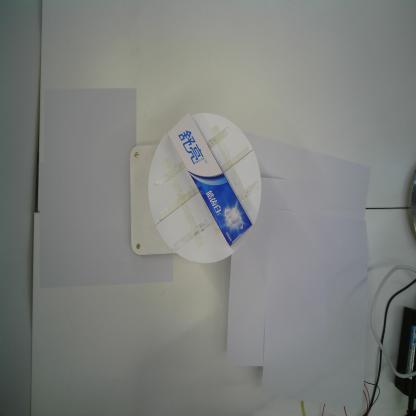Personal Hygiene: (167, 111, 252, 247)
